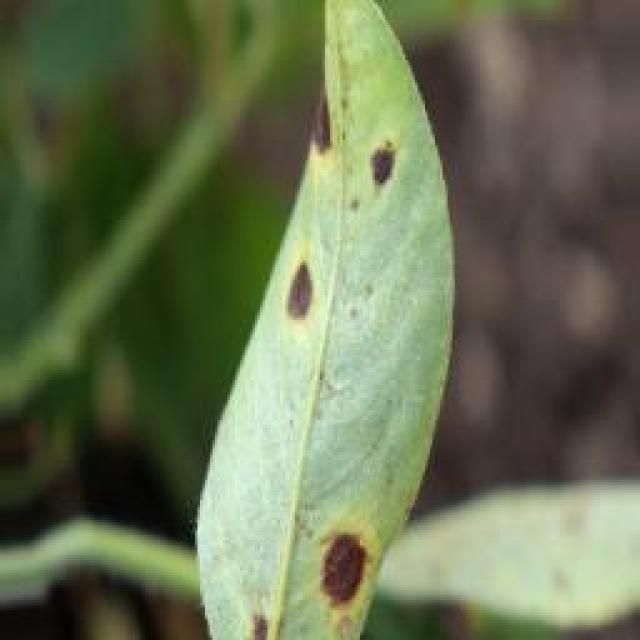Yellowish: (207, 521, 382, 640), (282, 82, 412, 190), (256, 242, 336, 342)
